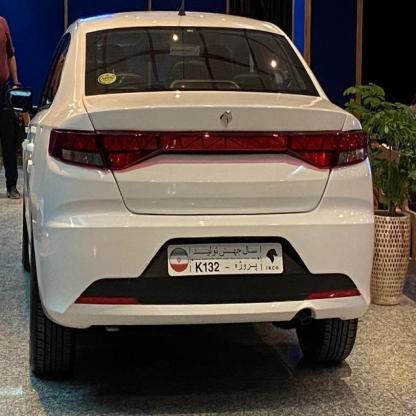Car: (19, 0, 377, 387)
